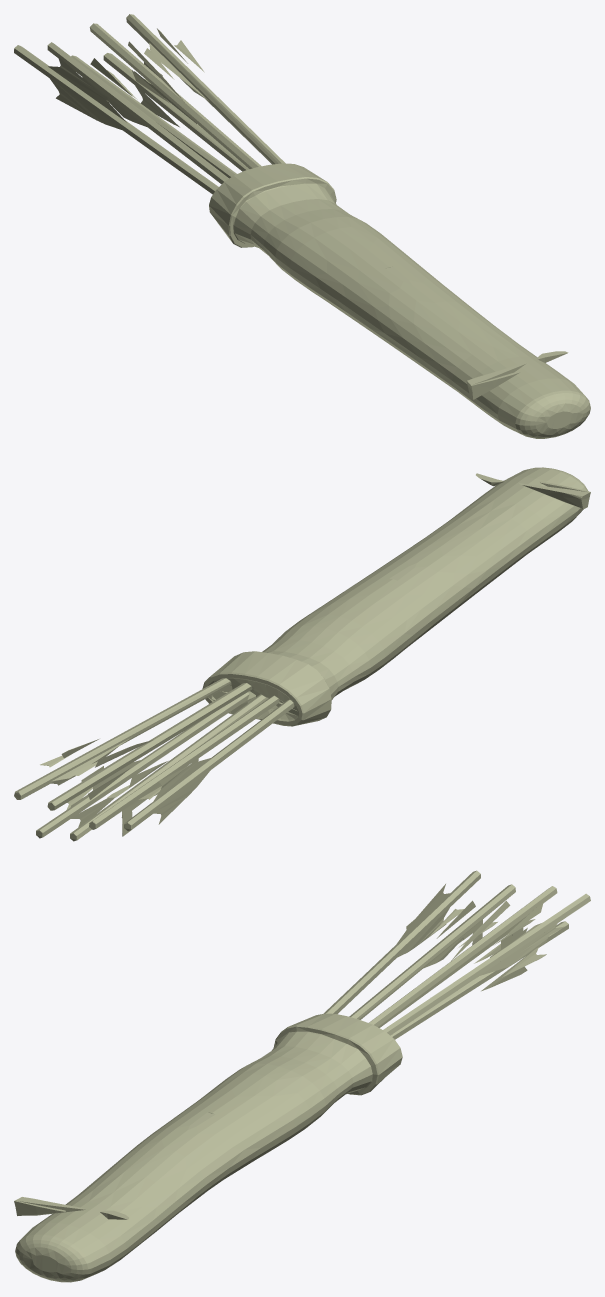
File: tinker.obj
3 renders of one model, top to bottom at view 1: azimuth 30°, elevation 25°; view 2: azimuth 150°, elevation 25°; view 3: azimuth 330°, elevation 25°, orthographic.
Visible parts, largest first — view 1: obj_0; view 2: obj_0; view 3: obj_0.
Boxes of the visible parts, box(x1,y1,x2,y2) form: obj_0: box(14, 14, 590, 438); obj_0: box(14, 467, 590, 841); obj_0: box(14, 870, 590, 1282).
Size of the model in its own units: 0.9724 by 0.521 by 6.11.
